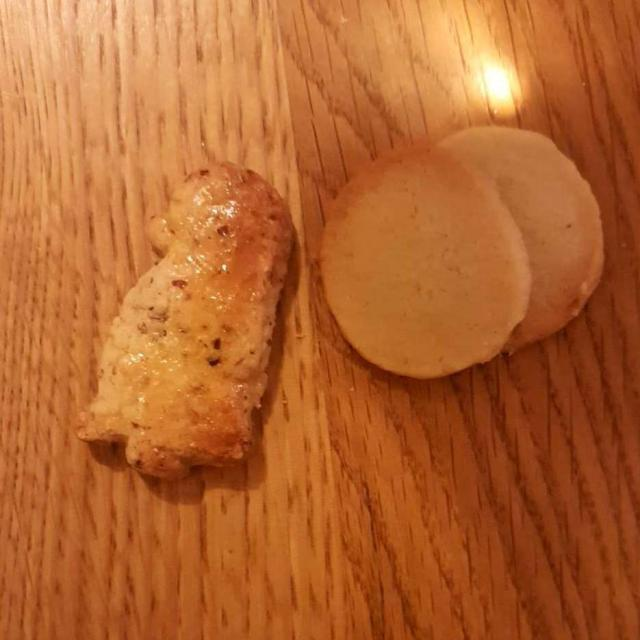biscuit: (321, 128, 599, 376)
